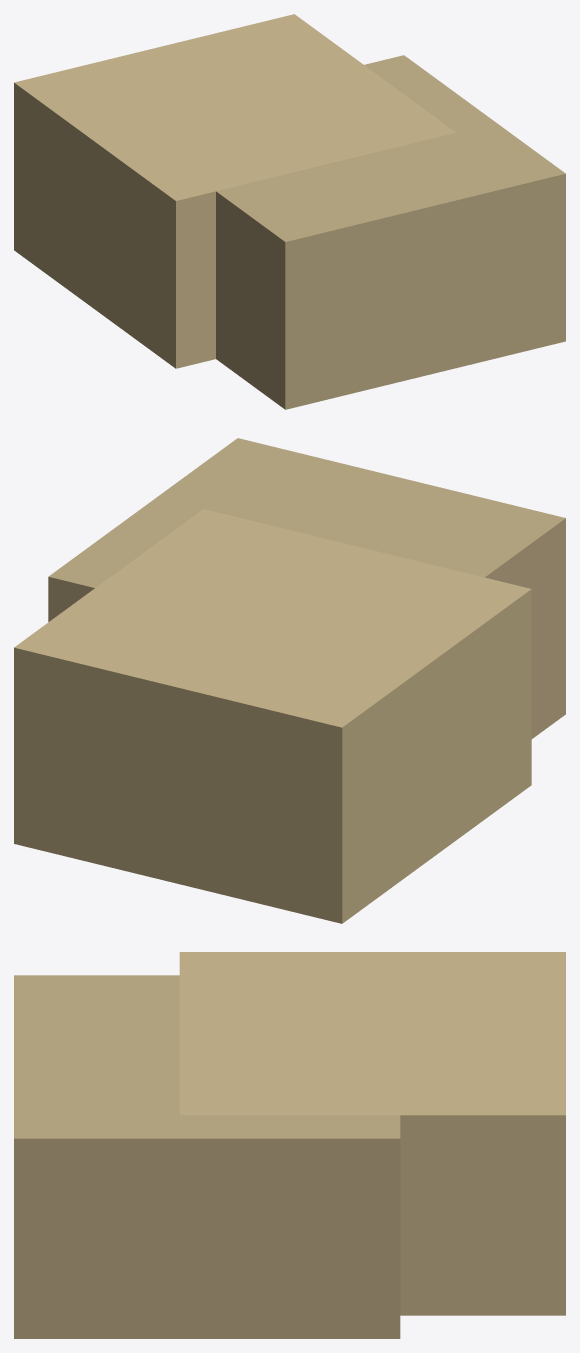
File: arenisca_03.glb
3 renders of one model, top to bottom at view 1: azimuth 30°, elevation 25°; view 2: azimuth 150°, elevation 25°; view 3: azimuth 270°, elevation 25°, orthographic. The views are drawn at different scales.
Visible parts, largest first — view 1: arenisca_03; view 2: arenisca_03; view 3: arenisca_03.
Part boxes in pixels (bbox=[...]): arenisca_03: bbox=[14, 14, 565, 409]; arenisca_03: bbox=[14, 438, 565, 923]; arenisca_03: bbox=[14, 952, 565, 1338].
Size of the model in its own units: 0.8 by 0.4 by 1.
